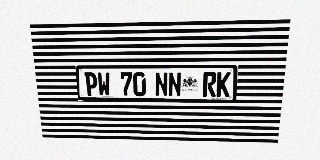0: (133, 72, 146, 96)
7: (119, 72, 133, 96)
K: (216, 72, 231, 97)
N: (155, 72, 168, 96), (168, 72, 181, 96)
P: (84, 72, 98, 96)
R: (202, 72, 217, 97)
W: (97, 72, 111, 96)
